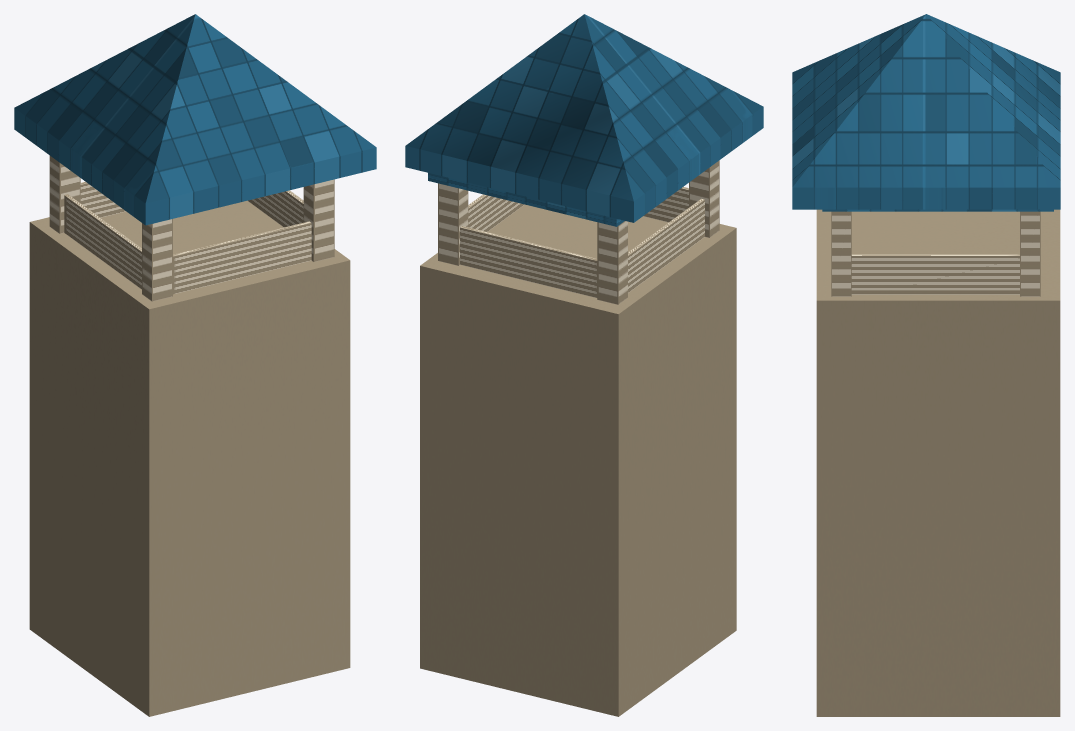
File: tower.FBX
The picture shows the model from 3 angles, left to right: view 1: azimuth 30°, elevation 25°; view 2: azimuth 150°, elevation 25°; view 3: azimuth 270°, elevation 25°; orthographic projection. The views are drawn at different scales.
Parts seen in each view (by area): view 1: Box1476__1_, Box1476, Box1466, Box1469, Box1474, Box1470, Box1467, Box1473, Box1468, Box1471; view 2: Box1476__1_, Box1476, Box1466, Box1471, Box1474, Box1473, Box1472, Box1475, Box1470, Box1468, Box1469; view 3: Box1476, Box1466, Box1476__1_, Box1468, Box1467, Box1472, Box1475.
Boxes of the visible parts, bbox=[...] form: Box1476__1_: bbox=[30, 200, 350, 716]; Box1476: bbox=[29, 222, 149, 716]; Box1466: bbox=[14, 14, 376, 225]; Box1469: bbox=[173, 221, 311, 294]; Box1474: bbox=[64, 194, 141, 289]; Box1470: bbox=[142, 219, 172, 301]; Box1467: bbox=[303, 179, 334, 261]; Box1473: bbox=[49, 155, 80, 233]; Box1468: bbox=[248, 190, 303, 227]; Box1471: bbox=[80, 181, 125, 217]; Box1476__1_: bbox=[420, 204, 735, 716]; Box1476: bbox=[618, 228, 736, 716]; Box1466: bbox=[405, 14, 763, 222]; Box1471: bbox=[460, 226, 597, 297]; Box1474: bbox=[628, 198, 704, 292]; Box1473: bbox=[597, 221, 627, 304]; Box1472: bbox=[438, 183, 468, 265]; Box1475: bbox=[428, 173, 624, 226]; Box1470: bbox=[689, 160, 719, 237]; Box1468: bbox=[468, 194, 524, 231]; Box1469: bbox=[643, 186, 688, 222]; Box1476: bbox=[816, 300, 1060, 716]; Box1466: bbox=[792, 14, 1060, 209]; Box1476__1_: bbox=[816, 209, 1060, 300]; Box1468: bbox=[851, 254, 1019, 294]; Box1467: bbox=[831, 211, 851, 296]; Box1472: bbox=[1020, 211, 1040, 296]; Box1475: bbox=[822, 209, 1053, 211].
Size of the model in its own units: 11.87 by 31.37 by 11.68.
12 materials, 12 textured.
